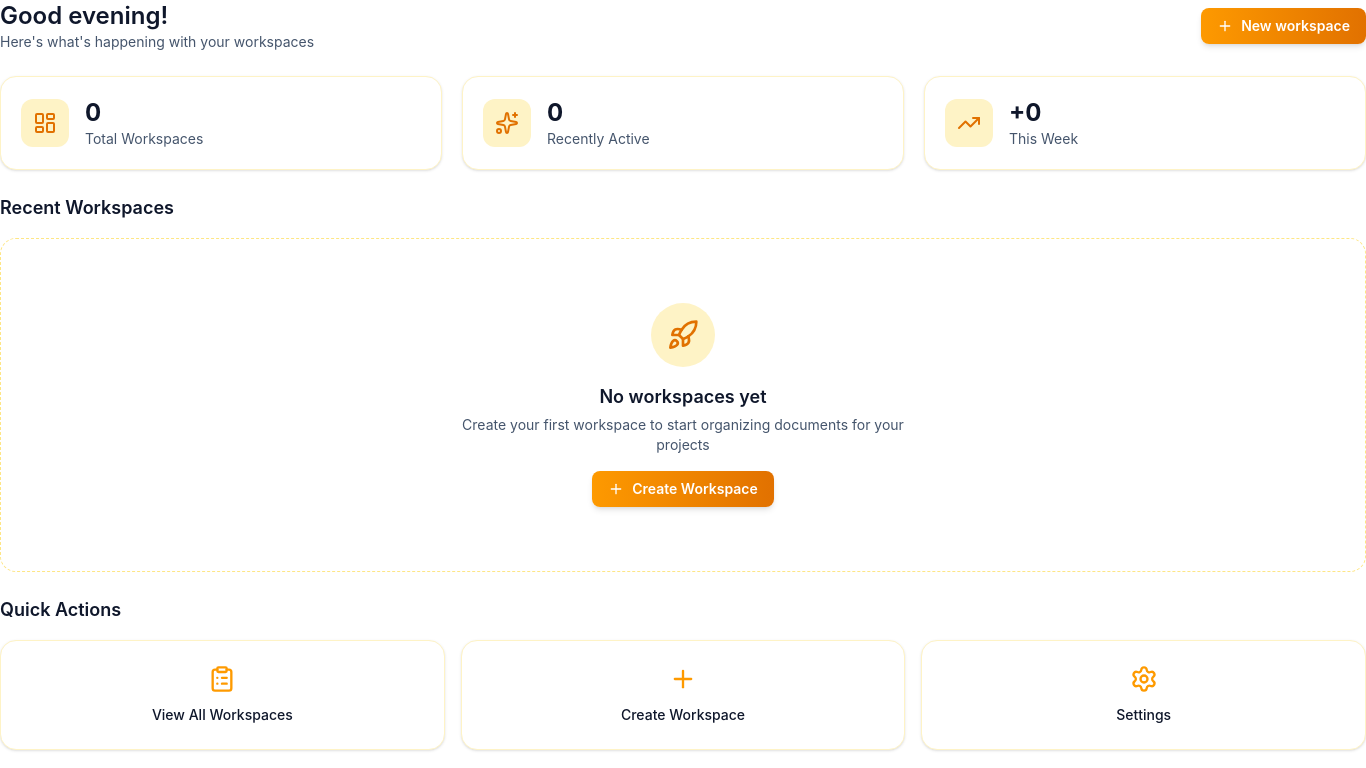
Test: DashboardHome › New workspace modal › opens modal when New workspace button is clicked
This screenshot has width=1366, height=768.
Click the button "New workspace" at x=1284, y=26, box [1201,8,1365,44]
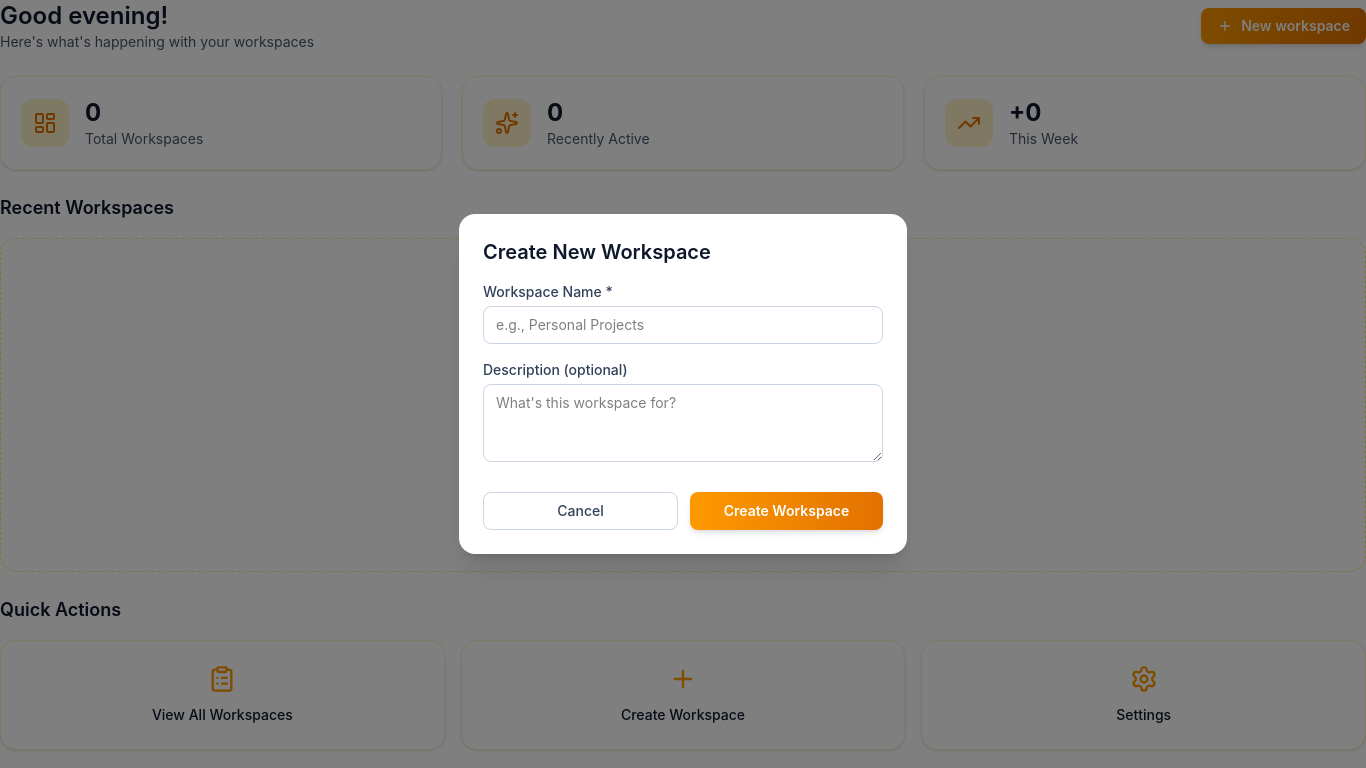
expect the heading "Create New Workspace" is shown: met, box [483,240,711,264]
